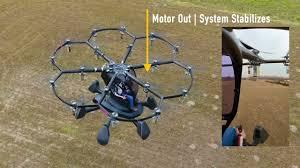drone: (49, 24, 195, 146)
